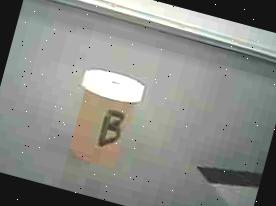Bottle B: (56, 60, 154, 176)
